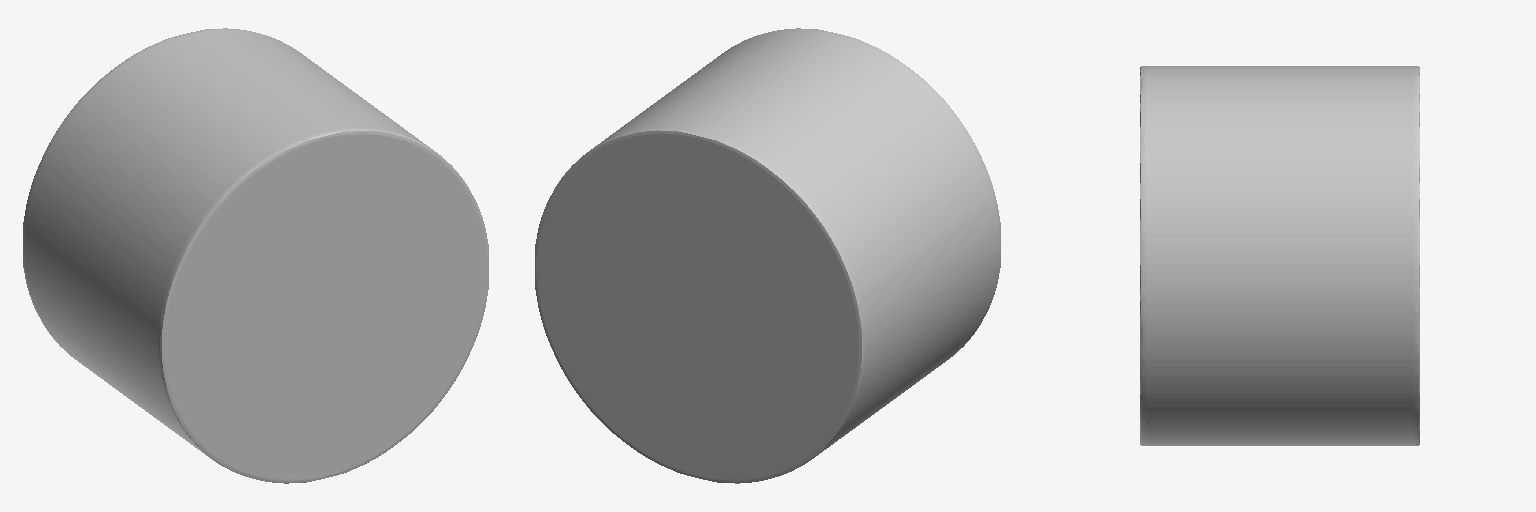
Rendered from Peg_collision_0.obj.
The picture shows the model from 3 angles: view 1: azimuth 30°, elevation 25°; view 2: azimuth 150°, elevation 25°; view 3: azimuth 270°, elevation 25°; orthographic projection.
Size of the model in its own units: 152 by 152 by 112.